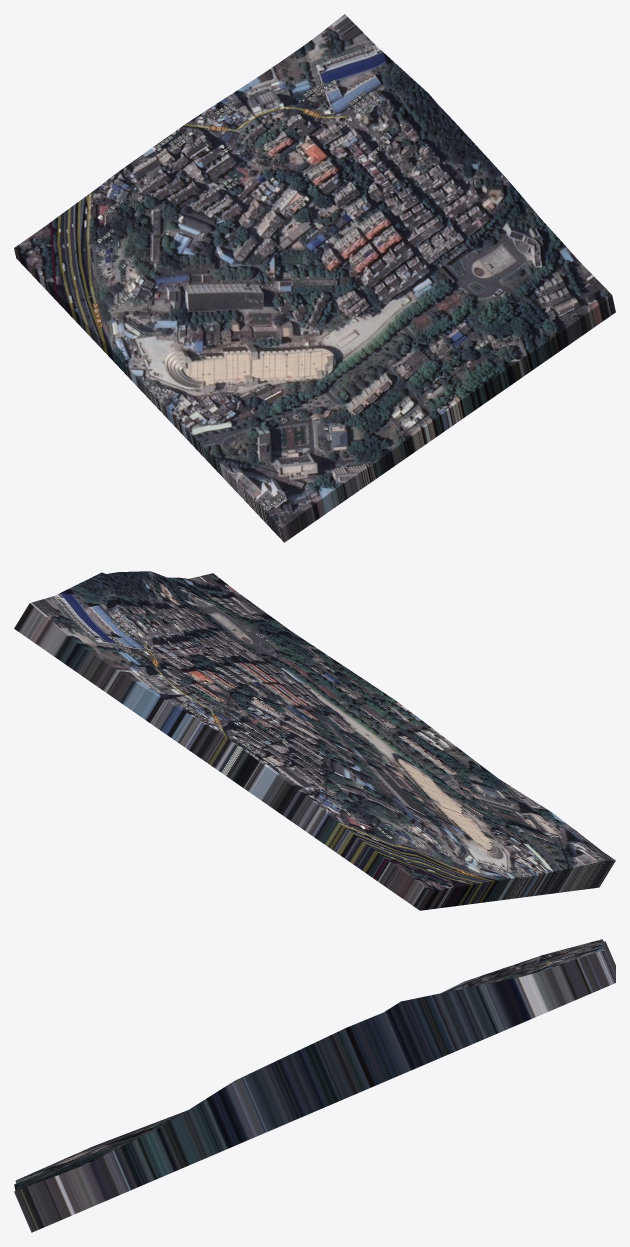
3 views of the same model, one above another, from view 1: azimuth 30°, elevation 25°; view 2: azimuth 150°, elevation 25°; view 3: azimuth 270°, elevation 25° (orthographic). The views are drawn at different scales.
Visible parts, largest first — view 1: 0_3_20; view 2: 0_3_20; view 3: 0_3_20.
Boxes of the visible parts, x1,y1,x2,y2 form: 0_3_20: (14,14,615,542); 0_3_20: (14,571,615,910); 0_3_20: (14,939,615,1232).
Size of the model in its own units: 601 by 456 by 558.
1 material, 1 textured.
